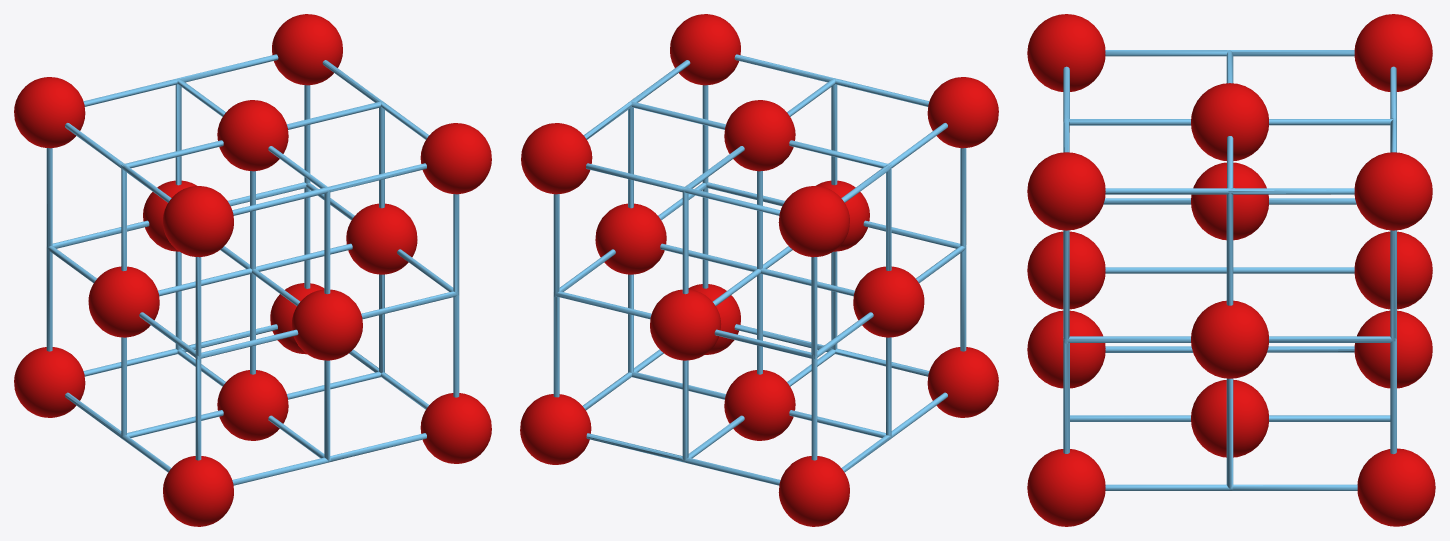
The picture shows the model from 3 angles, left to right: view 1: azimuth 30°, elevation 25°; view 2: azimuth 150°, elevation 25°; view 3: azimuth 270°, elevation 25°; orthographic projection. The views are drawn at different scales.
Visible parts, largest first — view 1: 图形003, Sphere326, Sphere325, Sphere331, Sphere328, Sphere327, Sphere323, Sphere334, Sphere333, Sphere324, Sphere322, Sphere330 (+3 smaller); view 2: 图形003, Sphere323, Sphere333, Sphere322, Sphere329, Sphere335, Sphere326, Sphere334, Sphere331, Sphere324, Sphere325, Sphere330 (+3 smaller); view 3: 图形003, Sphere325, Sphere322, Sphere328, Sphere329, Sphere330, Sphere323, Sphere326, Sphere324, Sphere327, Sphere335, Sphere332 (+3 smaller).
Boxes of the visible parts, x1,y1,x2,y2 form: 图形003: [46, 54, 459, 485]; Sphere326: [163, 186, 233, 257]; Sphere325: [420, 123, 491, 194]; Sphere331: [163, 456, 233, 526]; Sphere328: [420, 393, 491, 463]; Sphere327: [291, 289, 362, 360]; Sphere323: [14, 77, 85, 148]; Sphere334: [88, 266, 159, 337]; Sphere333: [14, 347, 85, 417]; Sphere324: [217, 100, 288, 171]; Sphere322: [272, 14, 342, 85]; Sphere330: [346, 203, 417, 274]; 图形003: [553, 54, 966, 485]; Sphere323: [778, 186, 849, 257]; Sphere333: [778, 456, 849, 526]; Sphere322: [521, 123, 592, 194]; Sphere329: [520, 394, 591, 464]; Sphere335: [650, 289, 720, 360]; Sphere326: [927, 77, 998, 148]; Sphere334: [853, 266, 924, 337]; Sphere331: [927, 347, 998, 417]; Sphere324: [724, 100, 795, 171]; Sphere325: [670, 14, 740, 85]; Sphere330: [595, 203, 666, 274]; 图形003: [1063, 50, 1396, 490]; Sphere325: [1027, 152, 1105, 230]; Sphere322: [1354, 152, 1432, 230]; Sphere328: [1027, 449, 1105, 526]; Sphere329: [1357, 448, 1435, 526]; Sphere330: [1191, 300, 1268, 378]; Sphere323: [1354, 14, 1432, 91]; Sphere326: [1027, 14, 1105, 91]; Sphere324: [1191, 83, 1268, 160]; Sphere327: [1027, 231, 1105, 309]; Sphere335: [1354, 231, 1432, 309]; Sphere332: [1191, 380, 1268, 457].
Size of the model in its own units: 62 by 62 by 62.43.
Materials: 1 (1 with a texture image).
